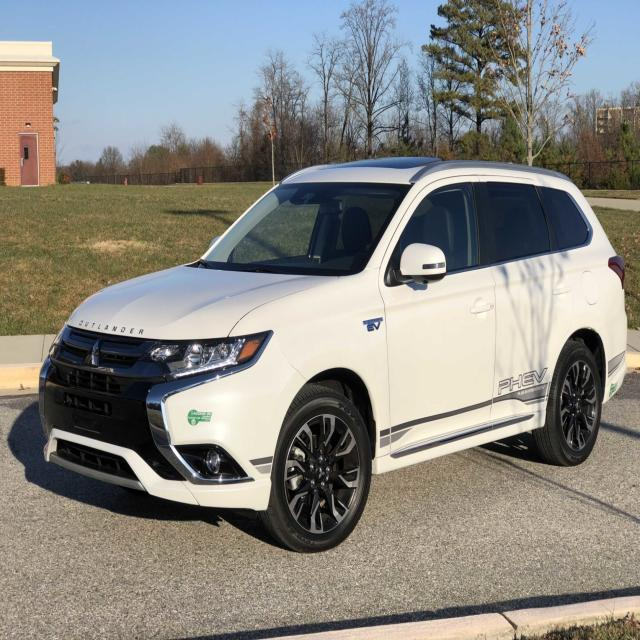light_vehicle: (37, 156, 628, 553)
